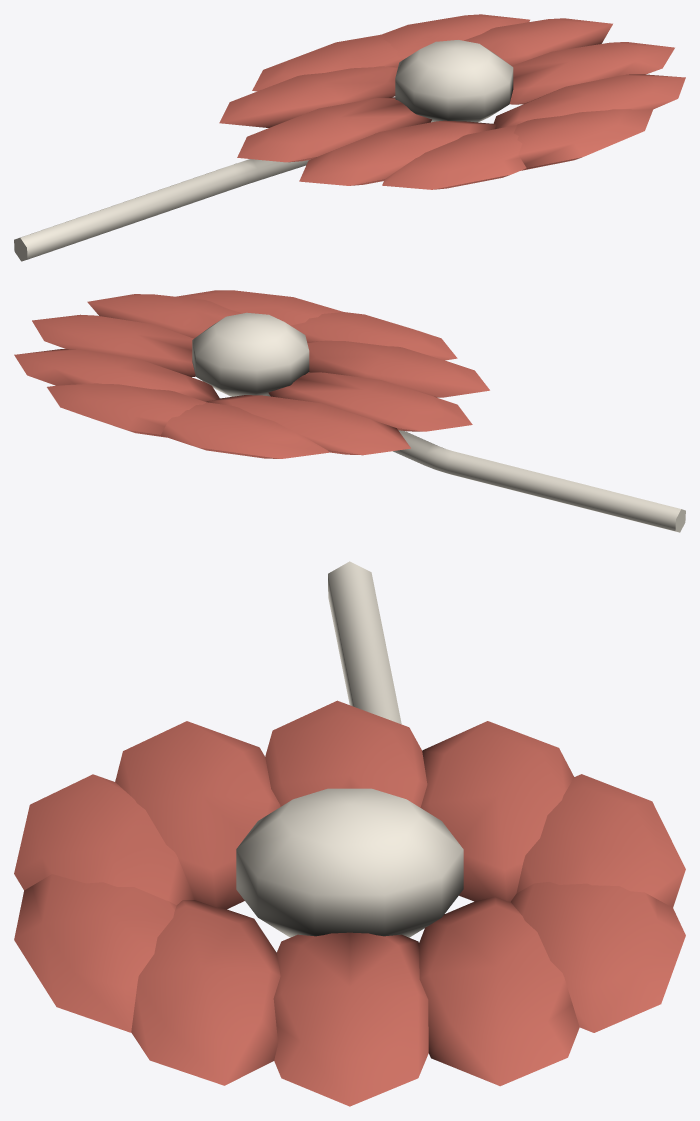
Rendered from forage_flower.glb.
The picture shows the model from 3 angles, top to bottom: view 1: azimuth 30°, elevation 25°; view 2: azimuth 150°, elevation 25°; view 3: azimuth 270°, elevation 25°; orthographic projection. The views are drawn at different scales.
Visible parts, largest first — view 1: PART; view 2: PART; view 3: PART.
Part boxes in pixels (x1,y1,x2,y2): PART: (14, 14, 685, 261); PART: (14, 290, 685, 532); PART: (14, 561, 685, 1106).
Bounding box in the file's own units: 0.1134 × 0.0177 × 0.0534.
